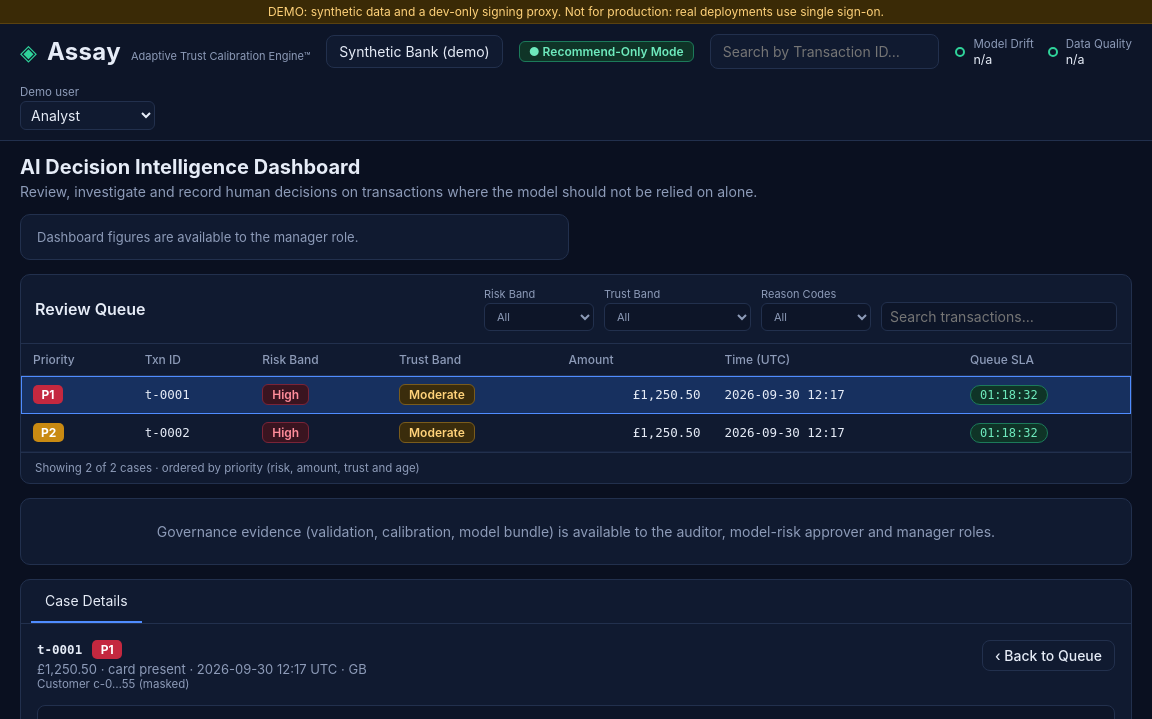
Test case: App › returns to an empty state from Back to Queue
Step 1. Click the button "‹ Back to Queue" → {"x": 1048, "y": 656}, box x1=982 y1=640 x2=1115 y2=671
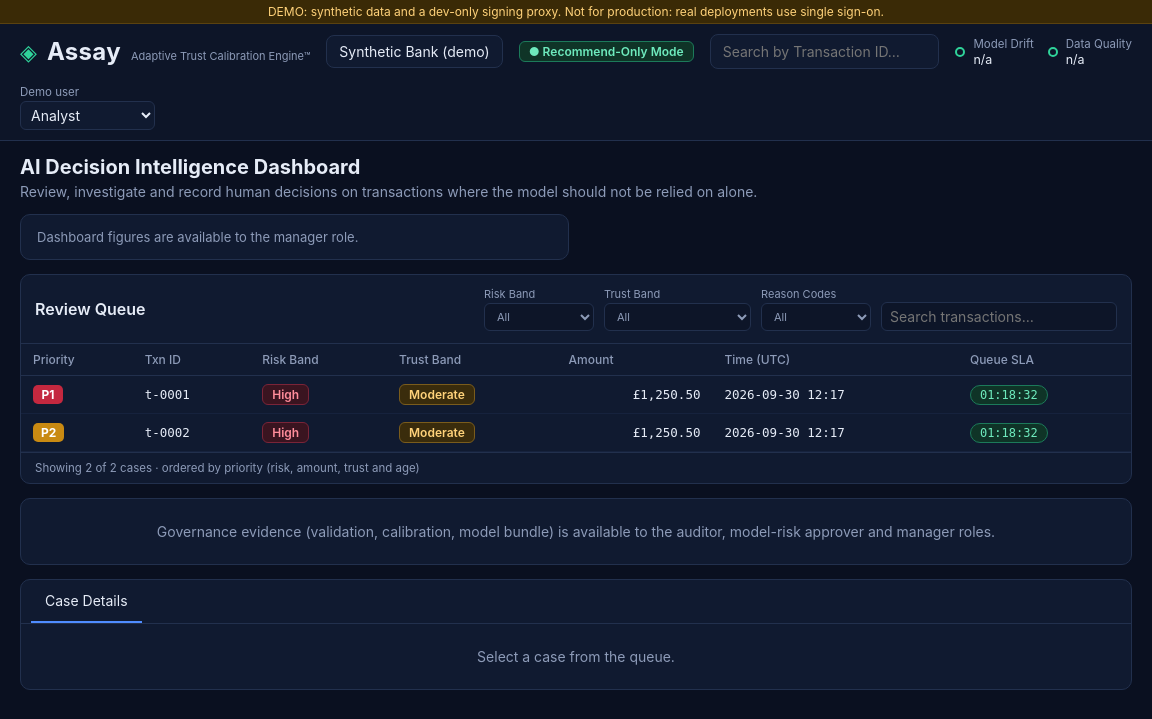
Expected: the text "Select a case from the queue." is shown, x1=477 y1=648 x2=675 y2=665
